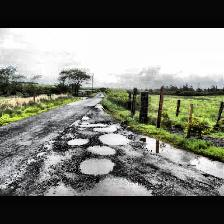pothole: (80, 175, 158, 195), (78, 156, 116, 174), (42, 181, 78, 195), (97, 133, 129, 145), (86, 144, 116, 155), (66, 137, 90, 145), (93, 125, 118, 132), (78, 124, 106, 127), (81, 116, 89, 120)
